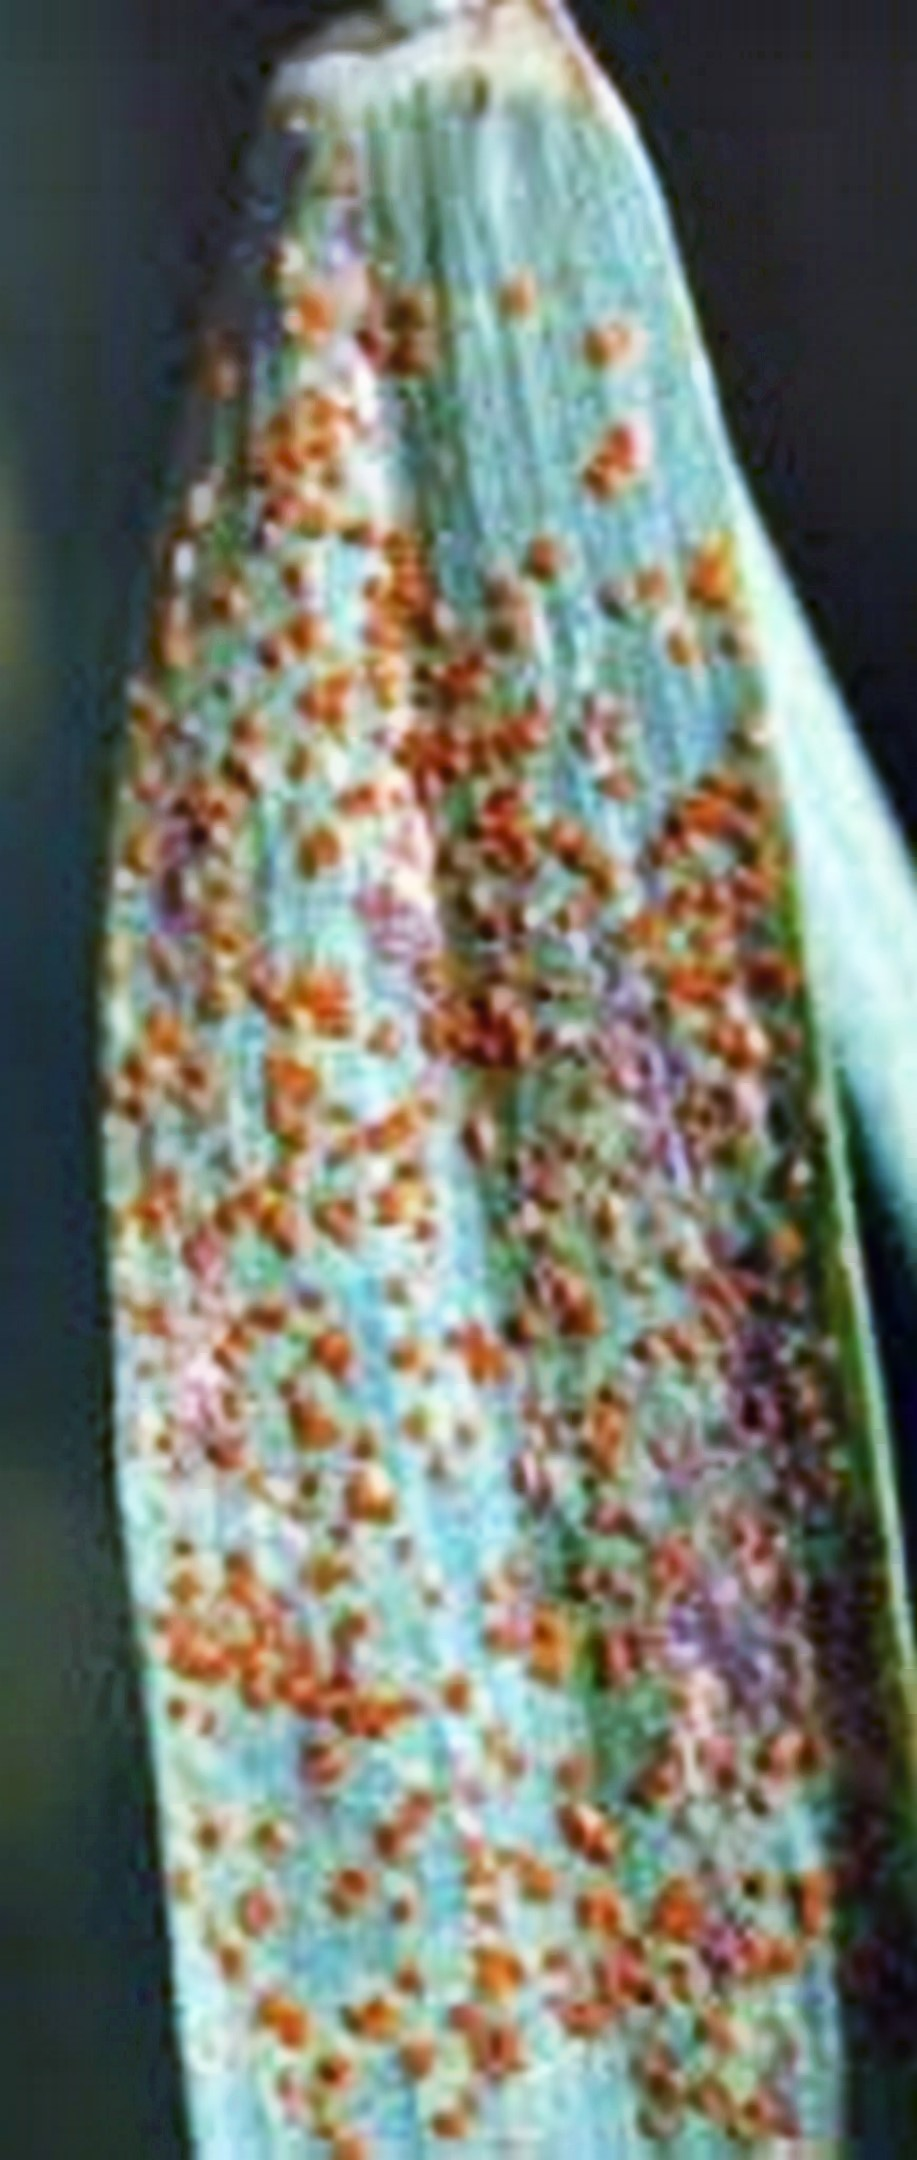Leaf Rust: (127, 515, 917, 1922)
